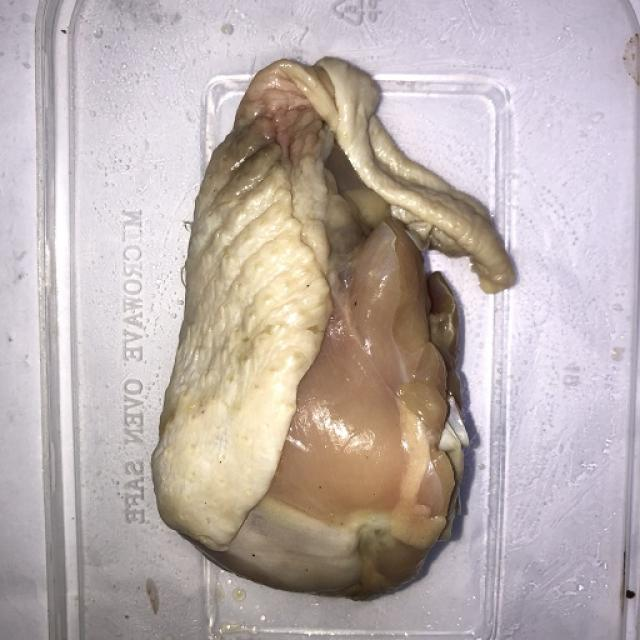chicken: (147, 42, 522, 608)
